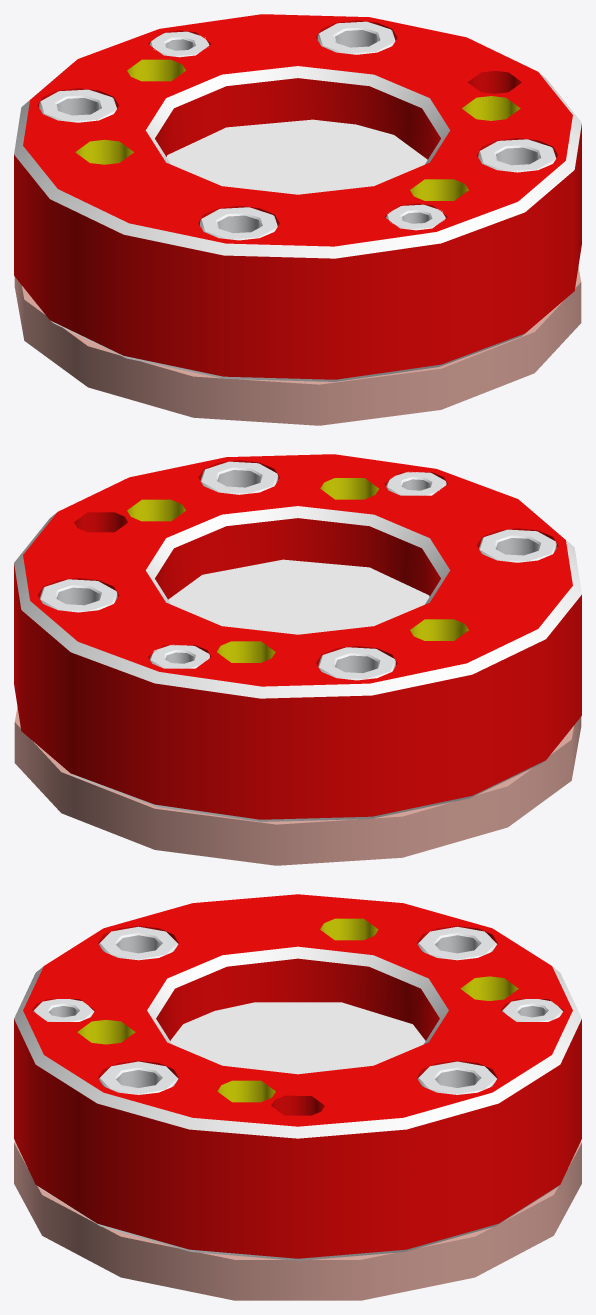
Rendered from flange.dae.
The picture shows the model from 3 angles, top to bottom: view 1: azimuth 30°, elevation 25°; view 2: azimuth 150°, elevation 25°; view 3: azimuth 270°, elevation 25°; orthographic projection.
Parts seen in each view (by area): view 1: 3dof_wrist_assy_r_2; view 2: 3dof_wrist_assy_r_2; view 3: 3dof_wrist_assy_r_2.
Part boxes in pixels (left/top/right/bottom): 3dof_wrist_assy_r_2: left=14, top=14, right=581, bottom=425; 3dof_wrist_assy_r_2: left=14, top=454, right=581, bottom=865; 3dof_wrist_assy_r_2: left=14, top=894, right=581, bottom=1300.
Bounding box in the file's own units: 63 × 63 × 21.2.
